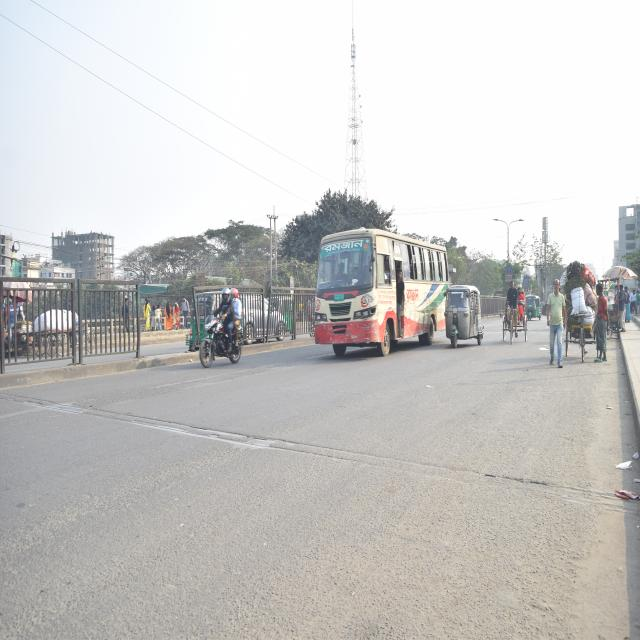bus: (312, 224, 448, 374)
motorbike: (192, 298, 247, 382)
